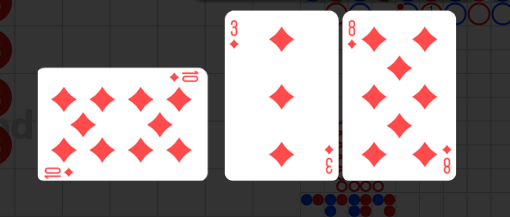10D: (168, 69, 200, 83), (43, 165, 75, 178)
8D: (441, 143, 453, 175)
